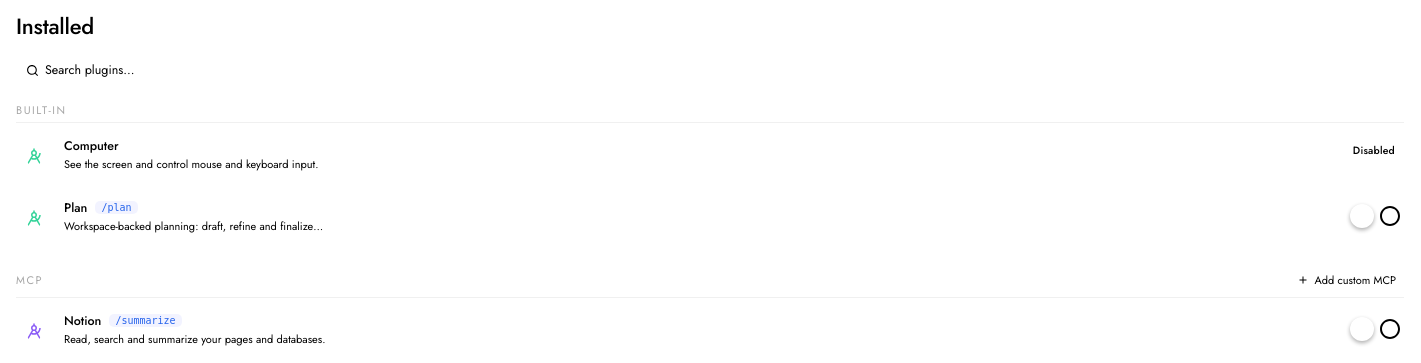
Scenario: PluginsInstalledPage › PluginsInstalledPage — custom MCP entry on the MCP header › a search matching no MCP plugin hides the section and its entry
Type "Plan" into the field with placeholder "Search plugins..." at (720, 70), box [45, 61, 1394, 79]
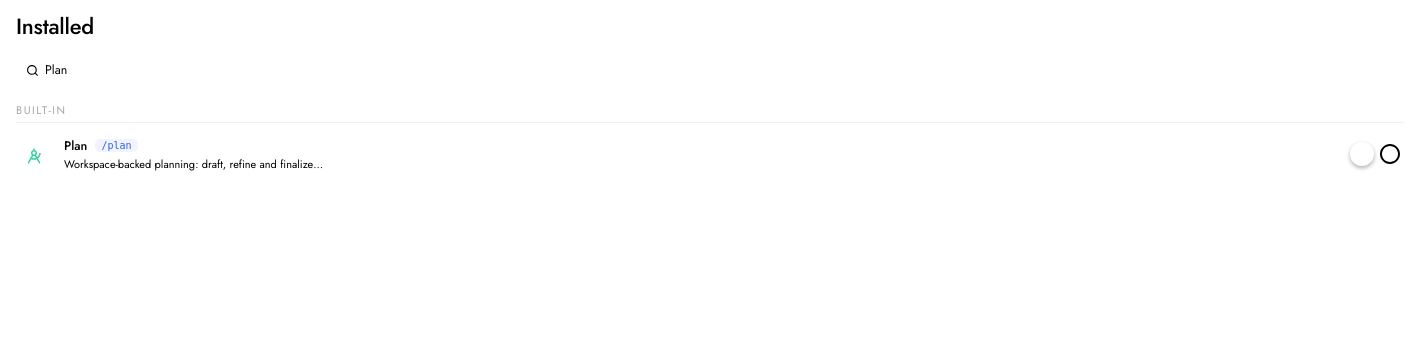
Expected: the text "Plan" is shown, [64, 136, 87, 154]
Expected: the text "mcp" is gone
Expected: the button with test id "installed-add-custom-mcp" is gone
